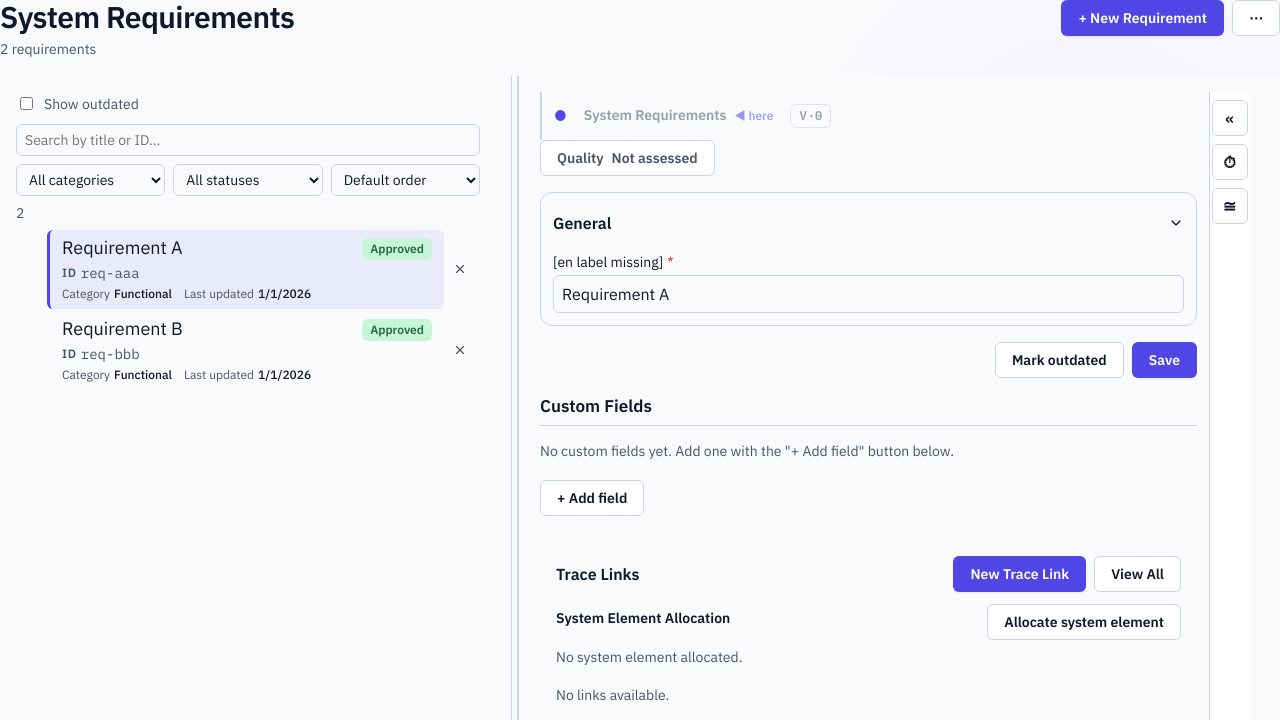
Test: RequirementEditors — unsaved-changes confirmation before tree navigation (#672) › warns before discarding an unsaved edit when a different tree item is clicked, and stays on the current item if canceled
This screenshot has width=1280, height=720.
Replace the text in the field with test id "artifact-field-title" with "Unsaved edit" at (868, 294), box [553, 275, 1184, 313]
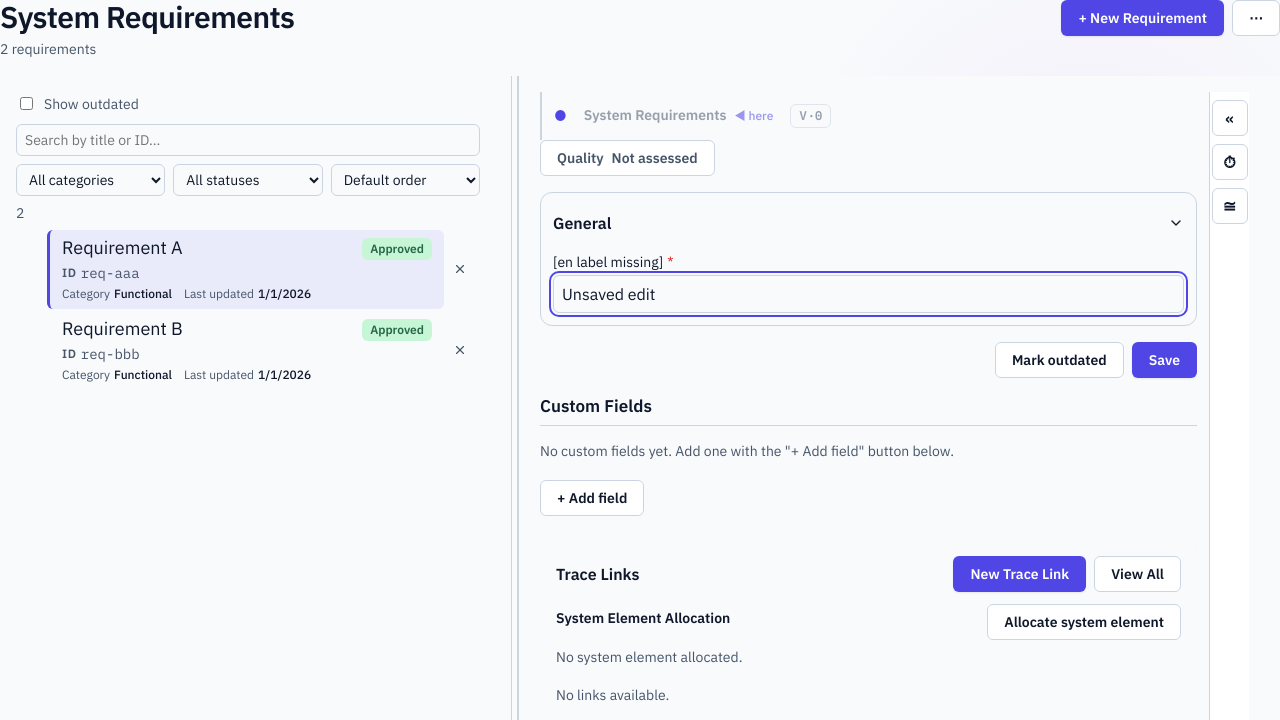
Click the list item that starts with "Requirement B" at (122, 329), box [16, 310, 480, 390]
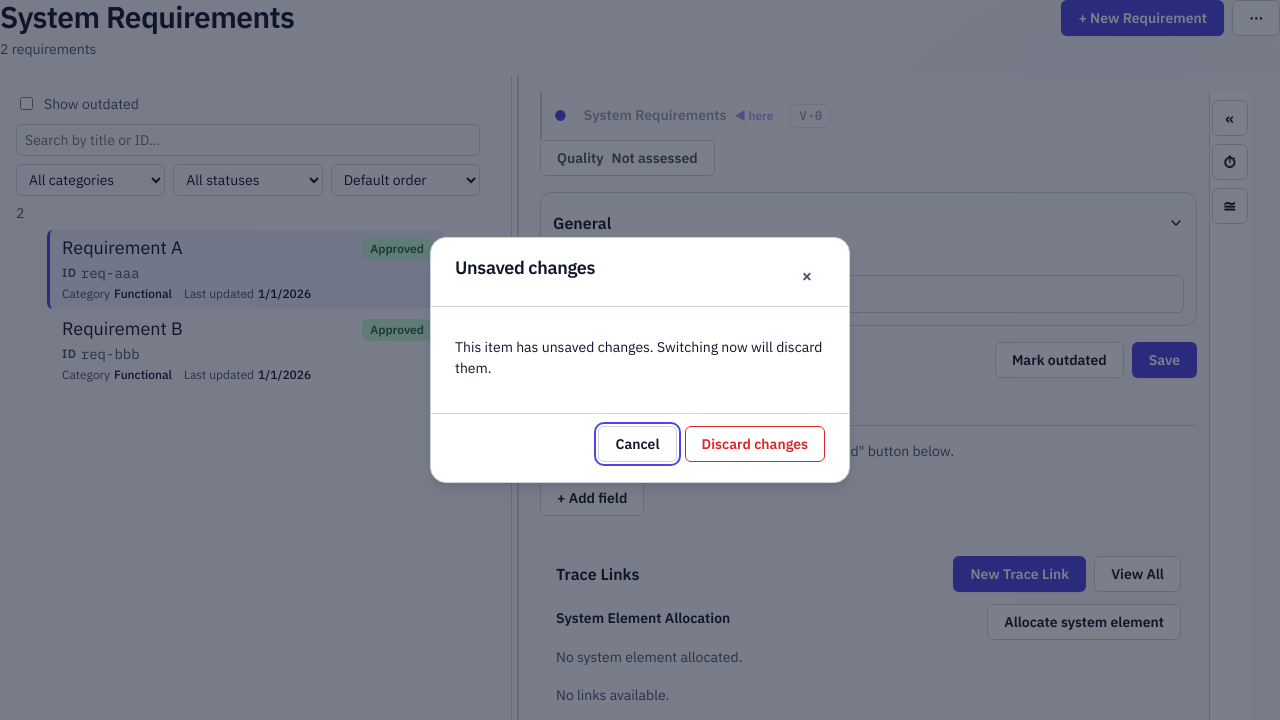
Now the dialog with test id "req-unsaved-changes-dialog" is shown, box [430, 237, 850, 483]
Note: Canceling must not navigate — the unsaved edit is still visible.
Click the button with test id "req-unsaved-changes-dialog-cancel" at (638, 444), box [598, 426, 677, 462]
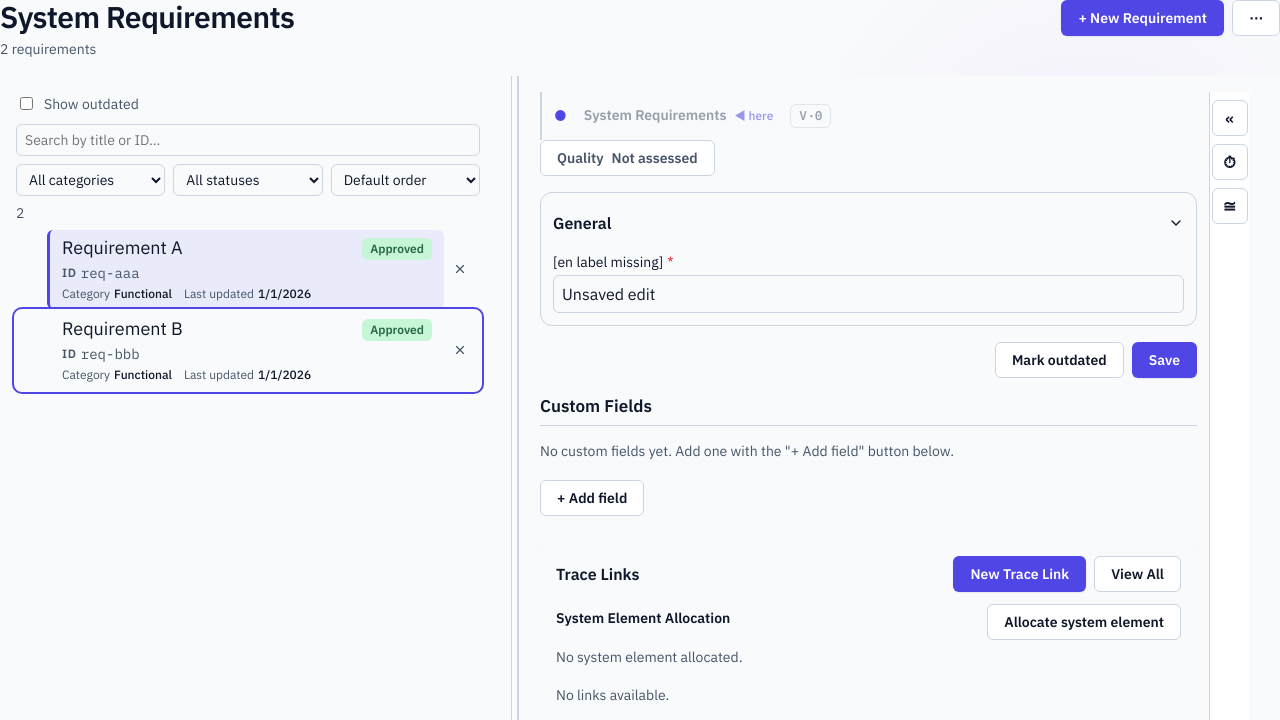
Now the dialog with test id "req-unsaved-changes-dialog" is gone
